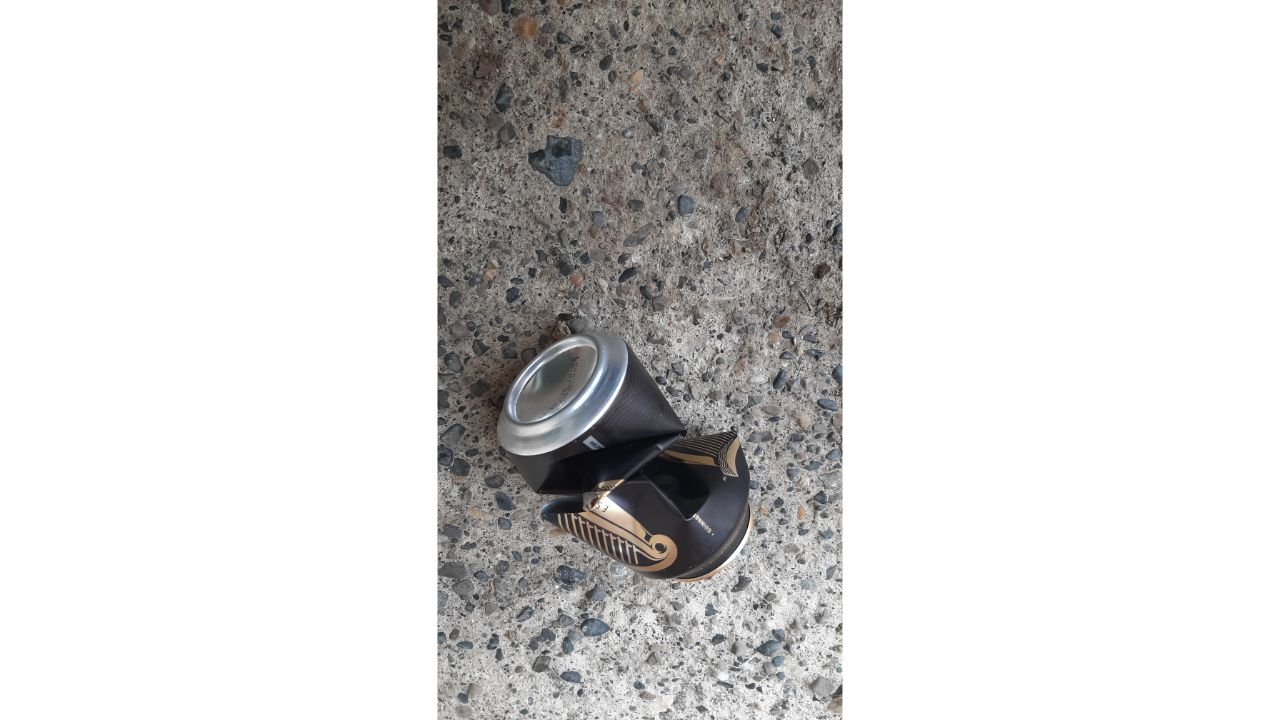Can: (493, 330, 756, 587)
